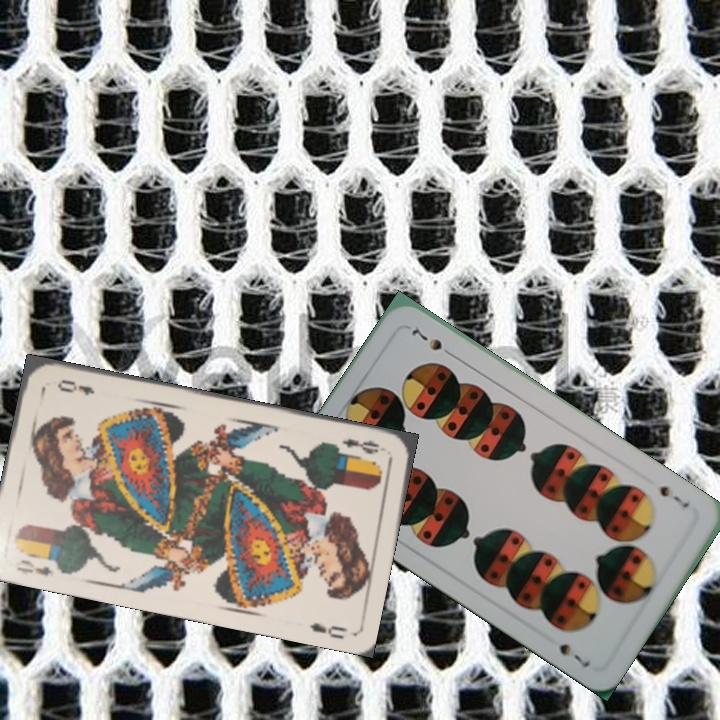EO: (338, 434, 389, 457), (13, 555, 56, 579)
S7: (655, 481, 692, 511)
